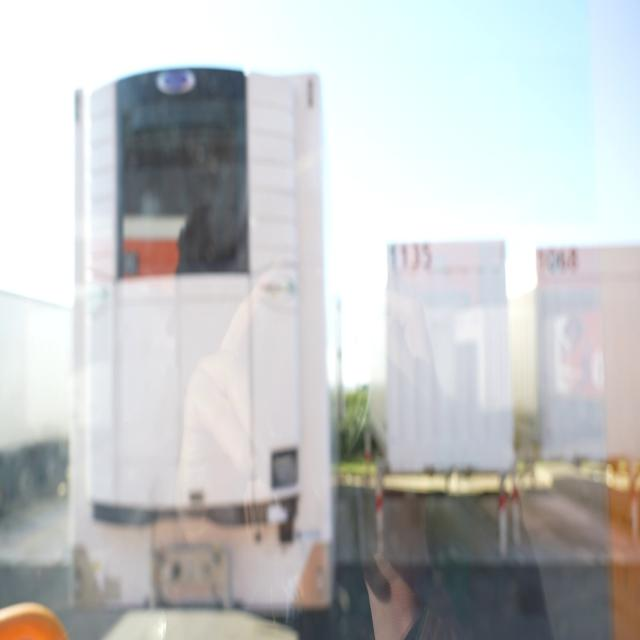Code: (386, 238, 439, 277)
